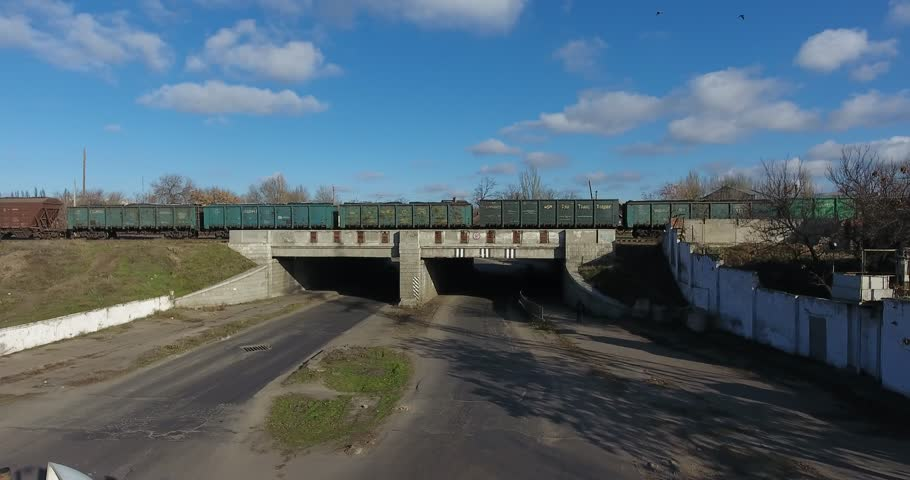bridge: (228, 229, 616, 306)
